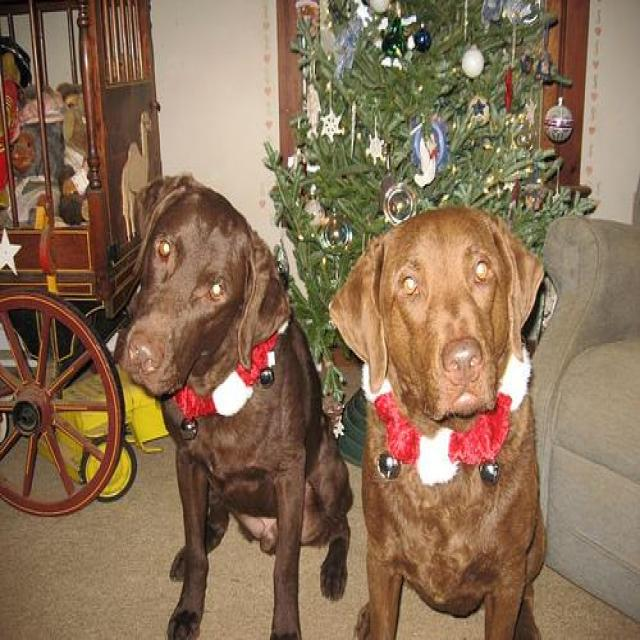sitting: (109, 164, 354, 640), (326, 199, 578, 640)
